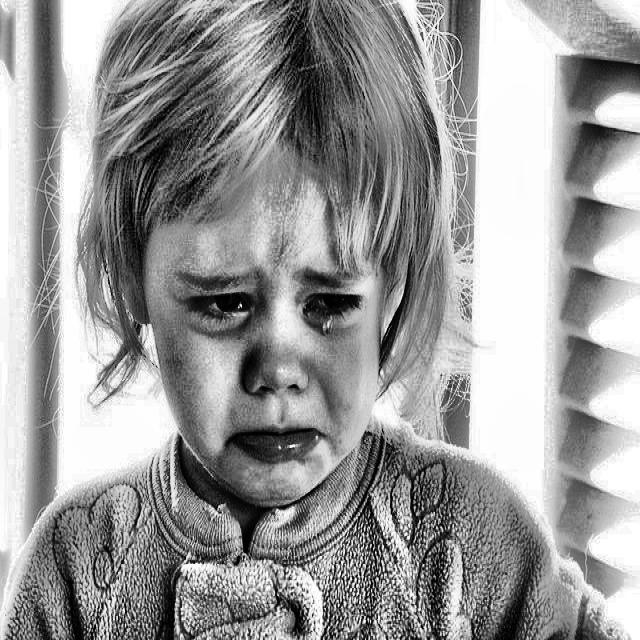sad: (66, 0, 456, 501)
